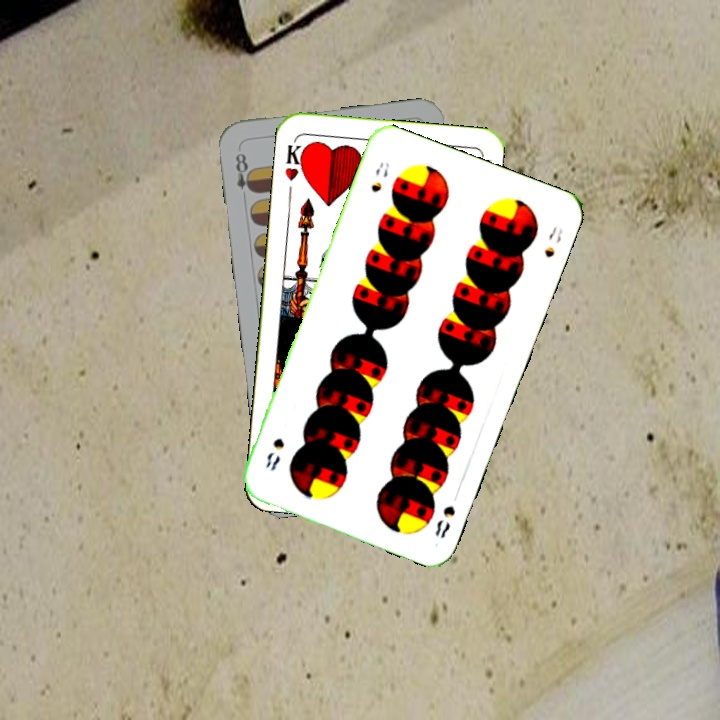E8: (231, 149, 257, 195)
HK: (281, 136, 309, 183)
S8: (431, 501, 458, 540), (367, 158, 393, 195)
